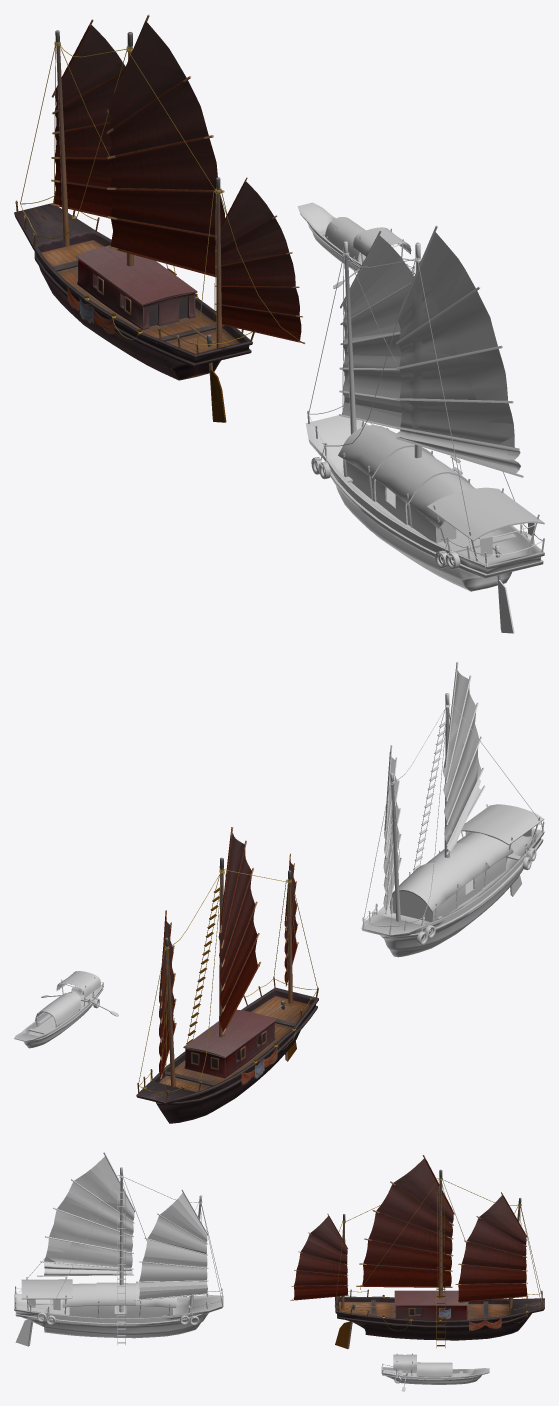
File: SM_BoatJunk_01.obj
The picture shows the model from 3 angles, top to bottom: view 1: azimuth 30°, elevation 25°; view 2: azimuth 150°, elevation 25°; view 3: azimuth 270°, elevation 25°; orthographic projection. The views are drawn at different scales.
Visible parts, largest first — view 1: SM_BoatJunk_01, SM_BoatJunk_03, SM_BoatJunk_Small; view 2: SM_BoatJunk_01, SM_BoatJunk_03, SM_BoatJunk_Small; view 3: SM_BoatJunk_01, SM_BoatJunk_03, SM_BoatJunk_Small.
Boxes of the visible parts, x1,y1,x2,y2 form: SM_BoatJunk_01: (14, 14, 305, 422); SM_BoatJunk_03: (305, 225, 544, 633); SM_BoatJunk_Small: (297, 202, 414, 288); SM_BoatJunk_01: (136, 827, 318, 1123); SM_BoatJunk_03: (361, 662, 544, 957); SM_BoatJunk_Small: (14, 971, 118, 1048); SM_BoatJunk_01: (290, 1155, 544, 1348); SM_BoatJunk_03: (14, 1152, 223, 1346); SM_BoatJunk_Small: (381, 1353, 489, 1391).
Size of the model in its own units: 3412 by 3683 by 9003.
